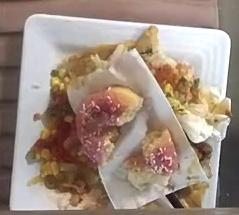corn: (26, 70, 88, 189)
donut: (77, 87, 143, 164), (118, 129, 177, 190)
taco_mix: (136, 26, 210, 117)
